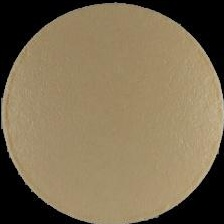23155-054: (0, 0, 224, 224)
